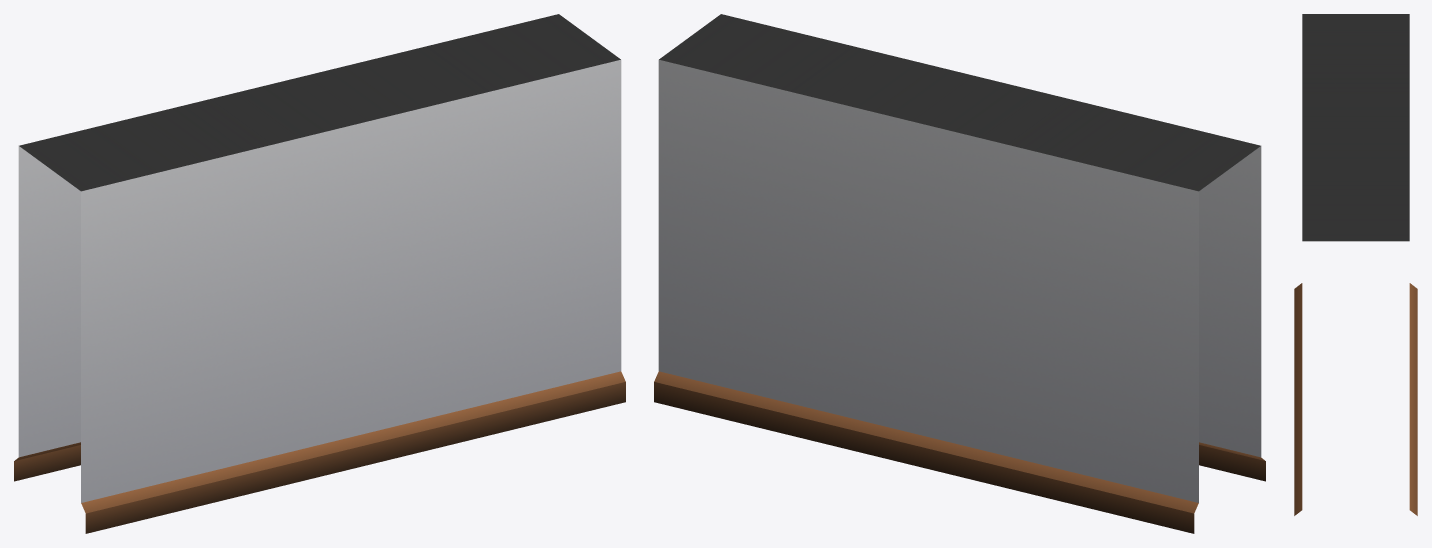
Rendered from wall_white.fbx.
3 renders of one model, left to right at view 1: azimuth 30°, elevation 25°; view 2: azimuth 150°, elevation 25°; view 3: azimuth 270°, elevation 25°, orthographic. The views are drawn at different scales.
Parts seen in each view (by area): view 1: SM_wall_light_white; view 2: SM_wall_light_white; view 3: SM_wall_light_white.
Boxes of the visible parts, x1,y1,x2,y2 form: SM_wall_light_white: (14, 14, 625, 533); SM_wall_light_white: (654, 14, 1265, 533); SM_wall_light_white: (1294, 14, 1417, 515).
Bounding box in the file's own units: 500 × 300 × 115.
1 material, 1 textured.
